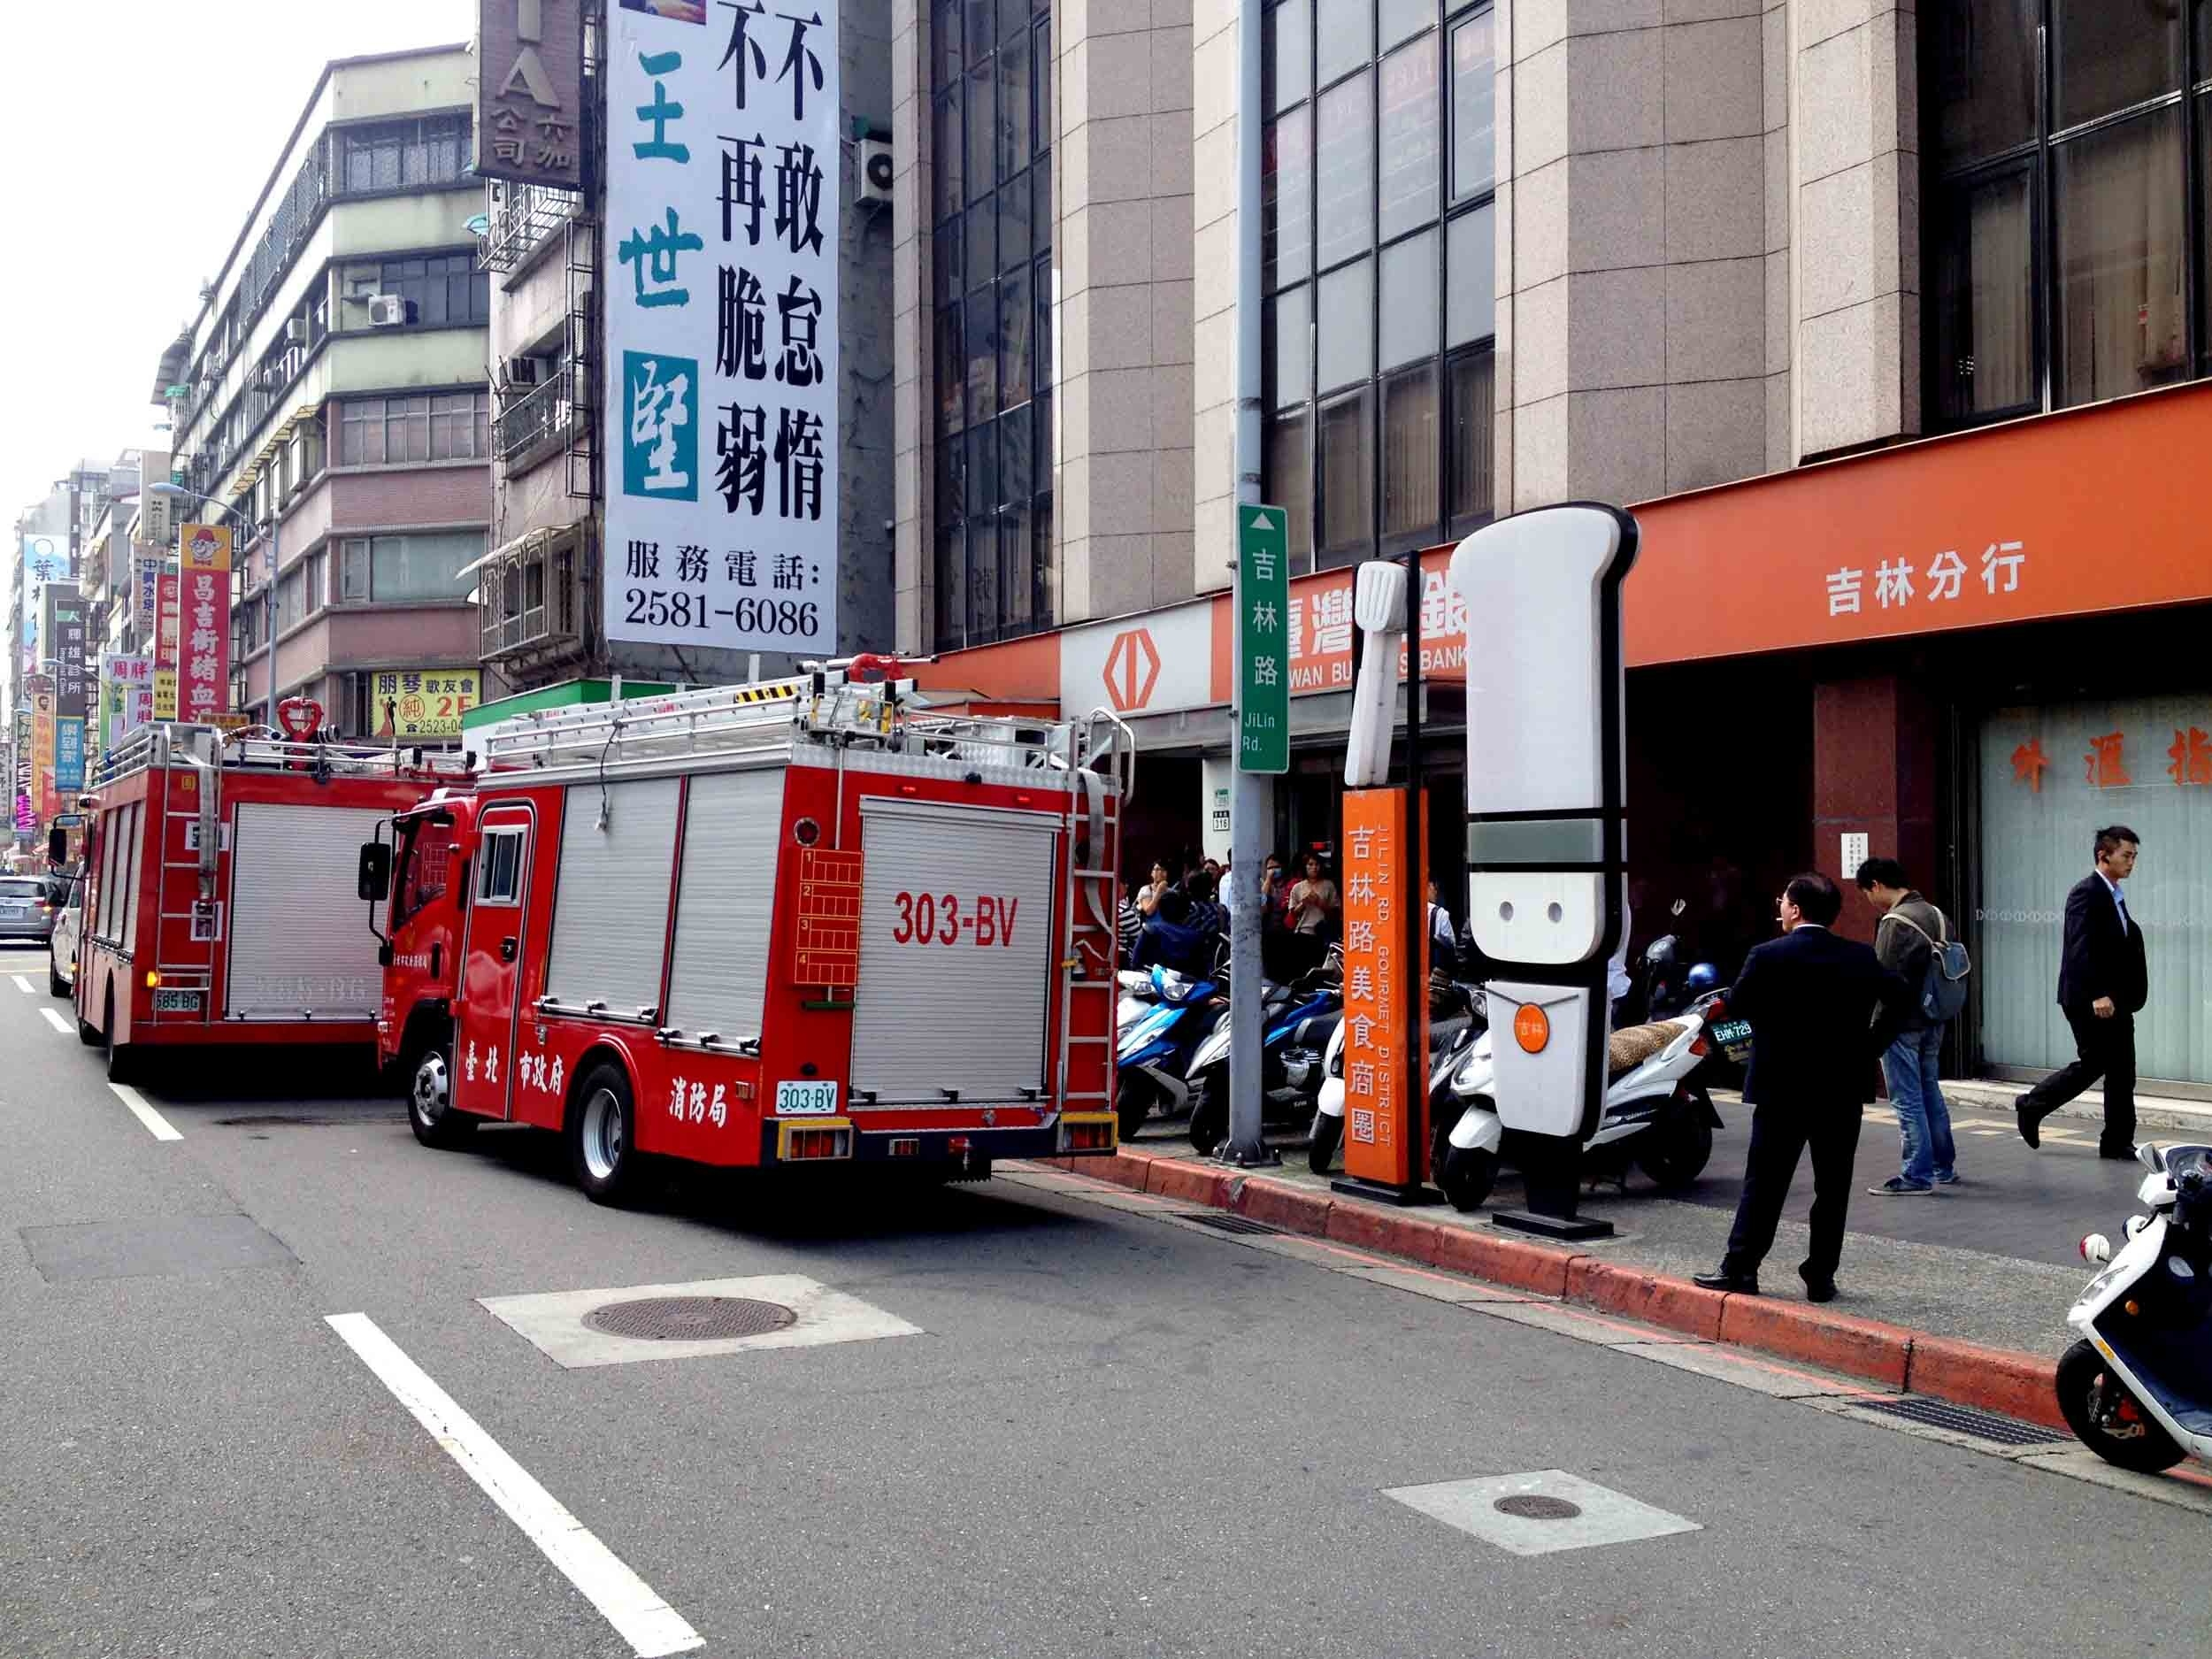fire engine: (371, 659, 1137, 1225)
